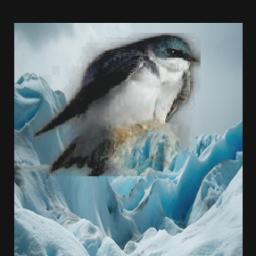Swallow: (33, 33, 201, 176)
